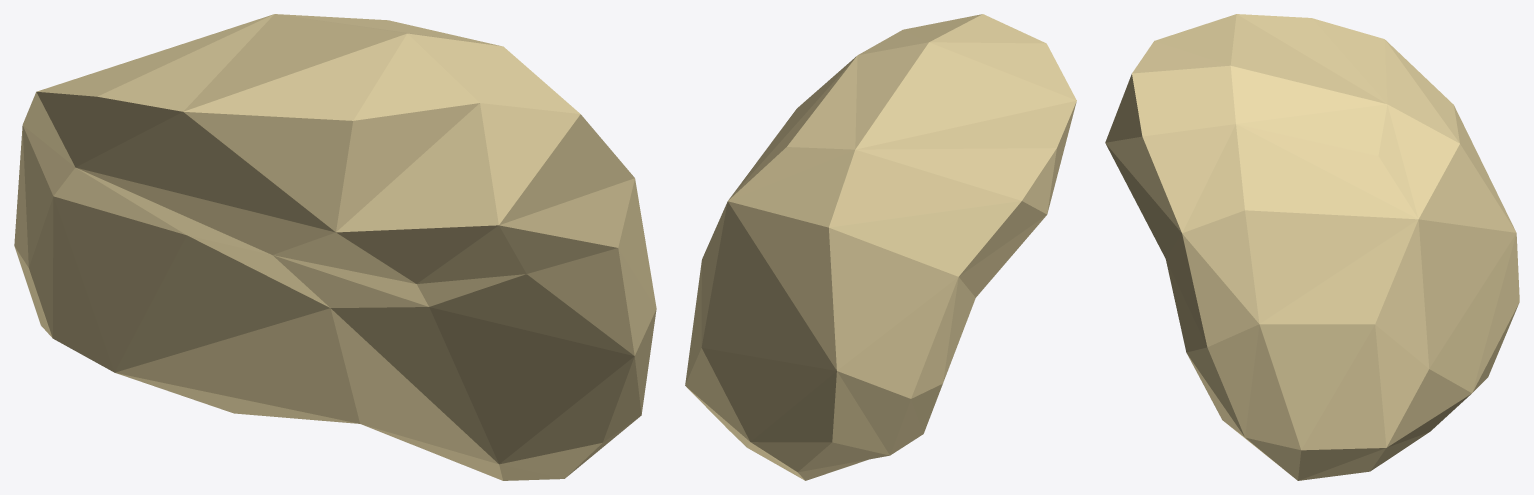
The model's file is Rock (46).fbx.
The picture shows the model from 3 angles, left to right: view 1: azimuth 30°, elevation 25°; view 2: azimuth 150°, elevation 25°; view 3: azimuth 270°, elevation 25°; orthographic projection. The views are drawn at different scales.
Parts seen in each view (by area): view 1: Asteroid45; view 2: Asteroid45; view 3: Asteroid45.
Part boxes in pixels (<box>): Asteroid45: <box>14,14,656,480</box>; Asteroid45: <box>685,14,1076,480</box>; Asteroid45: <box>1105,14,1519,480</box>.
Size of the model in its own units: 118 by 117 by 126.
